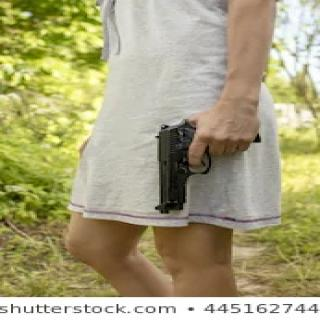gun: (141, 116, 257, 215)
